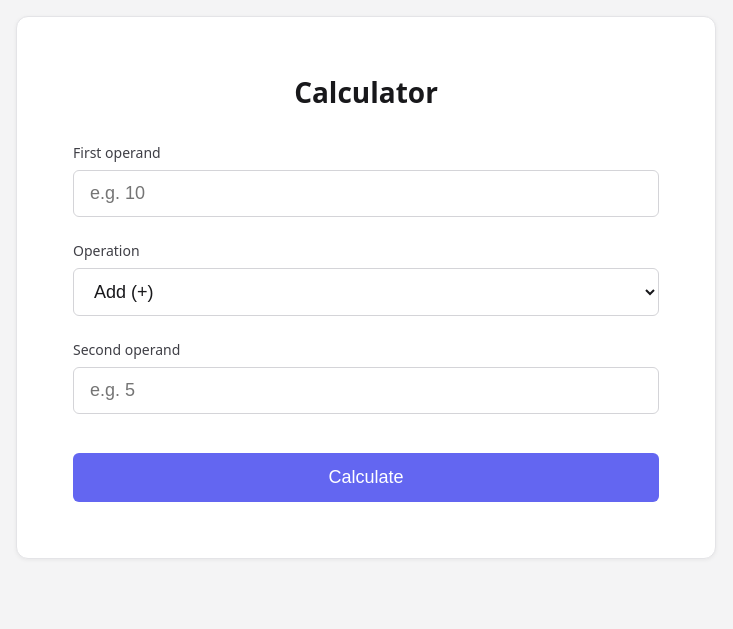
it: App › displays advanced operation errors from the API
The image size is (733, 629).
Step 1. Select "Power (x^y)" in the dropdown labelled "Operation" → (366, 292), box left=73, top=268, right=659, bottom=316
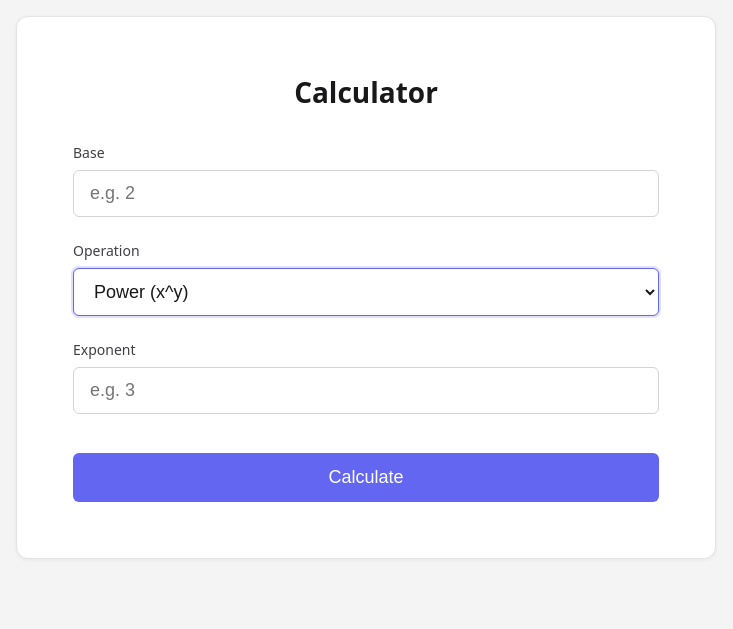
Step 2. Type "1e308" into the field labelled "Base" → (366, 194), box left=73, top=170, right=659, bottom=217
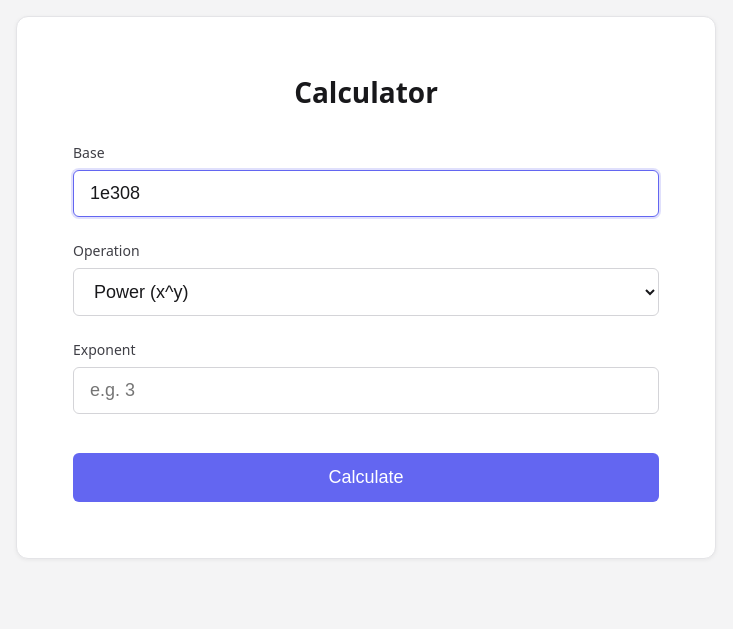
Step 3. Type "2" into the field labelled "Exponent" → (366, 390), box left=73, top=367, right=659, bottom=414
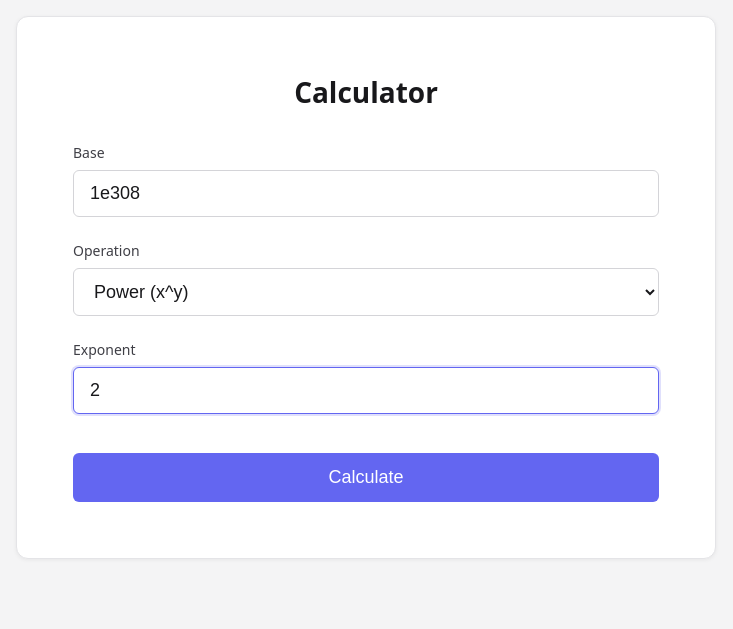
Step 4. Click the button "Calculate" → (366, 478), box left=73, top=453, right=659, bottom=502
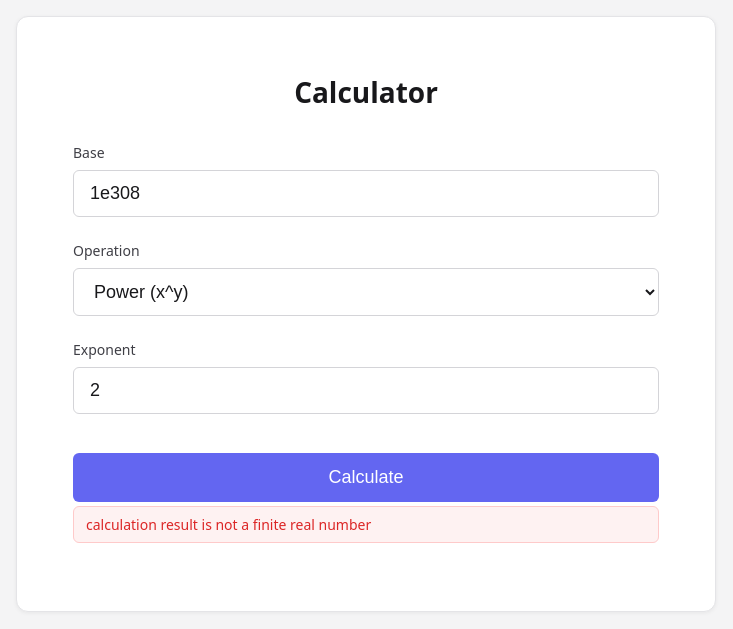
Expected: the message reads "calculation result is not a finite real number", left=86, top=515, right=371, bottom=534
